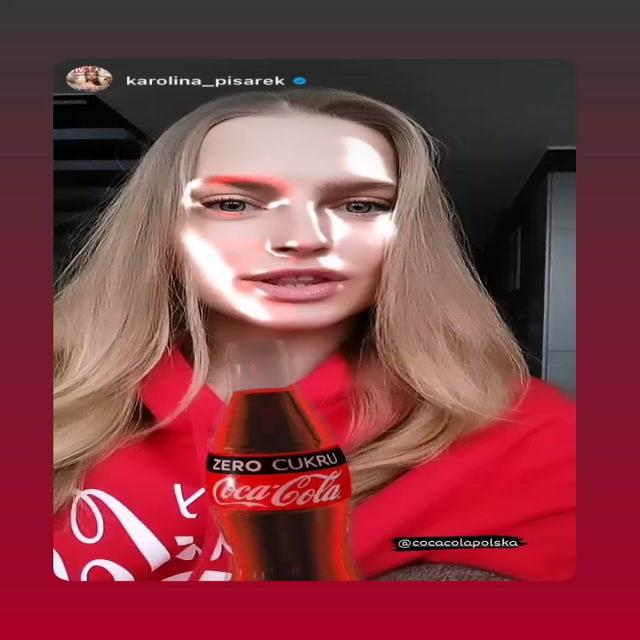coca-cola: (204, 339, 364, 579)
